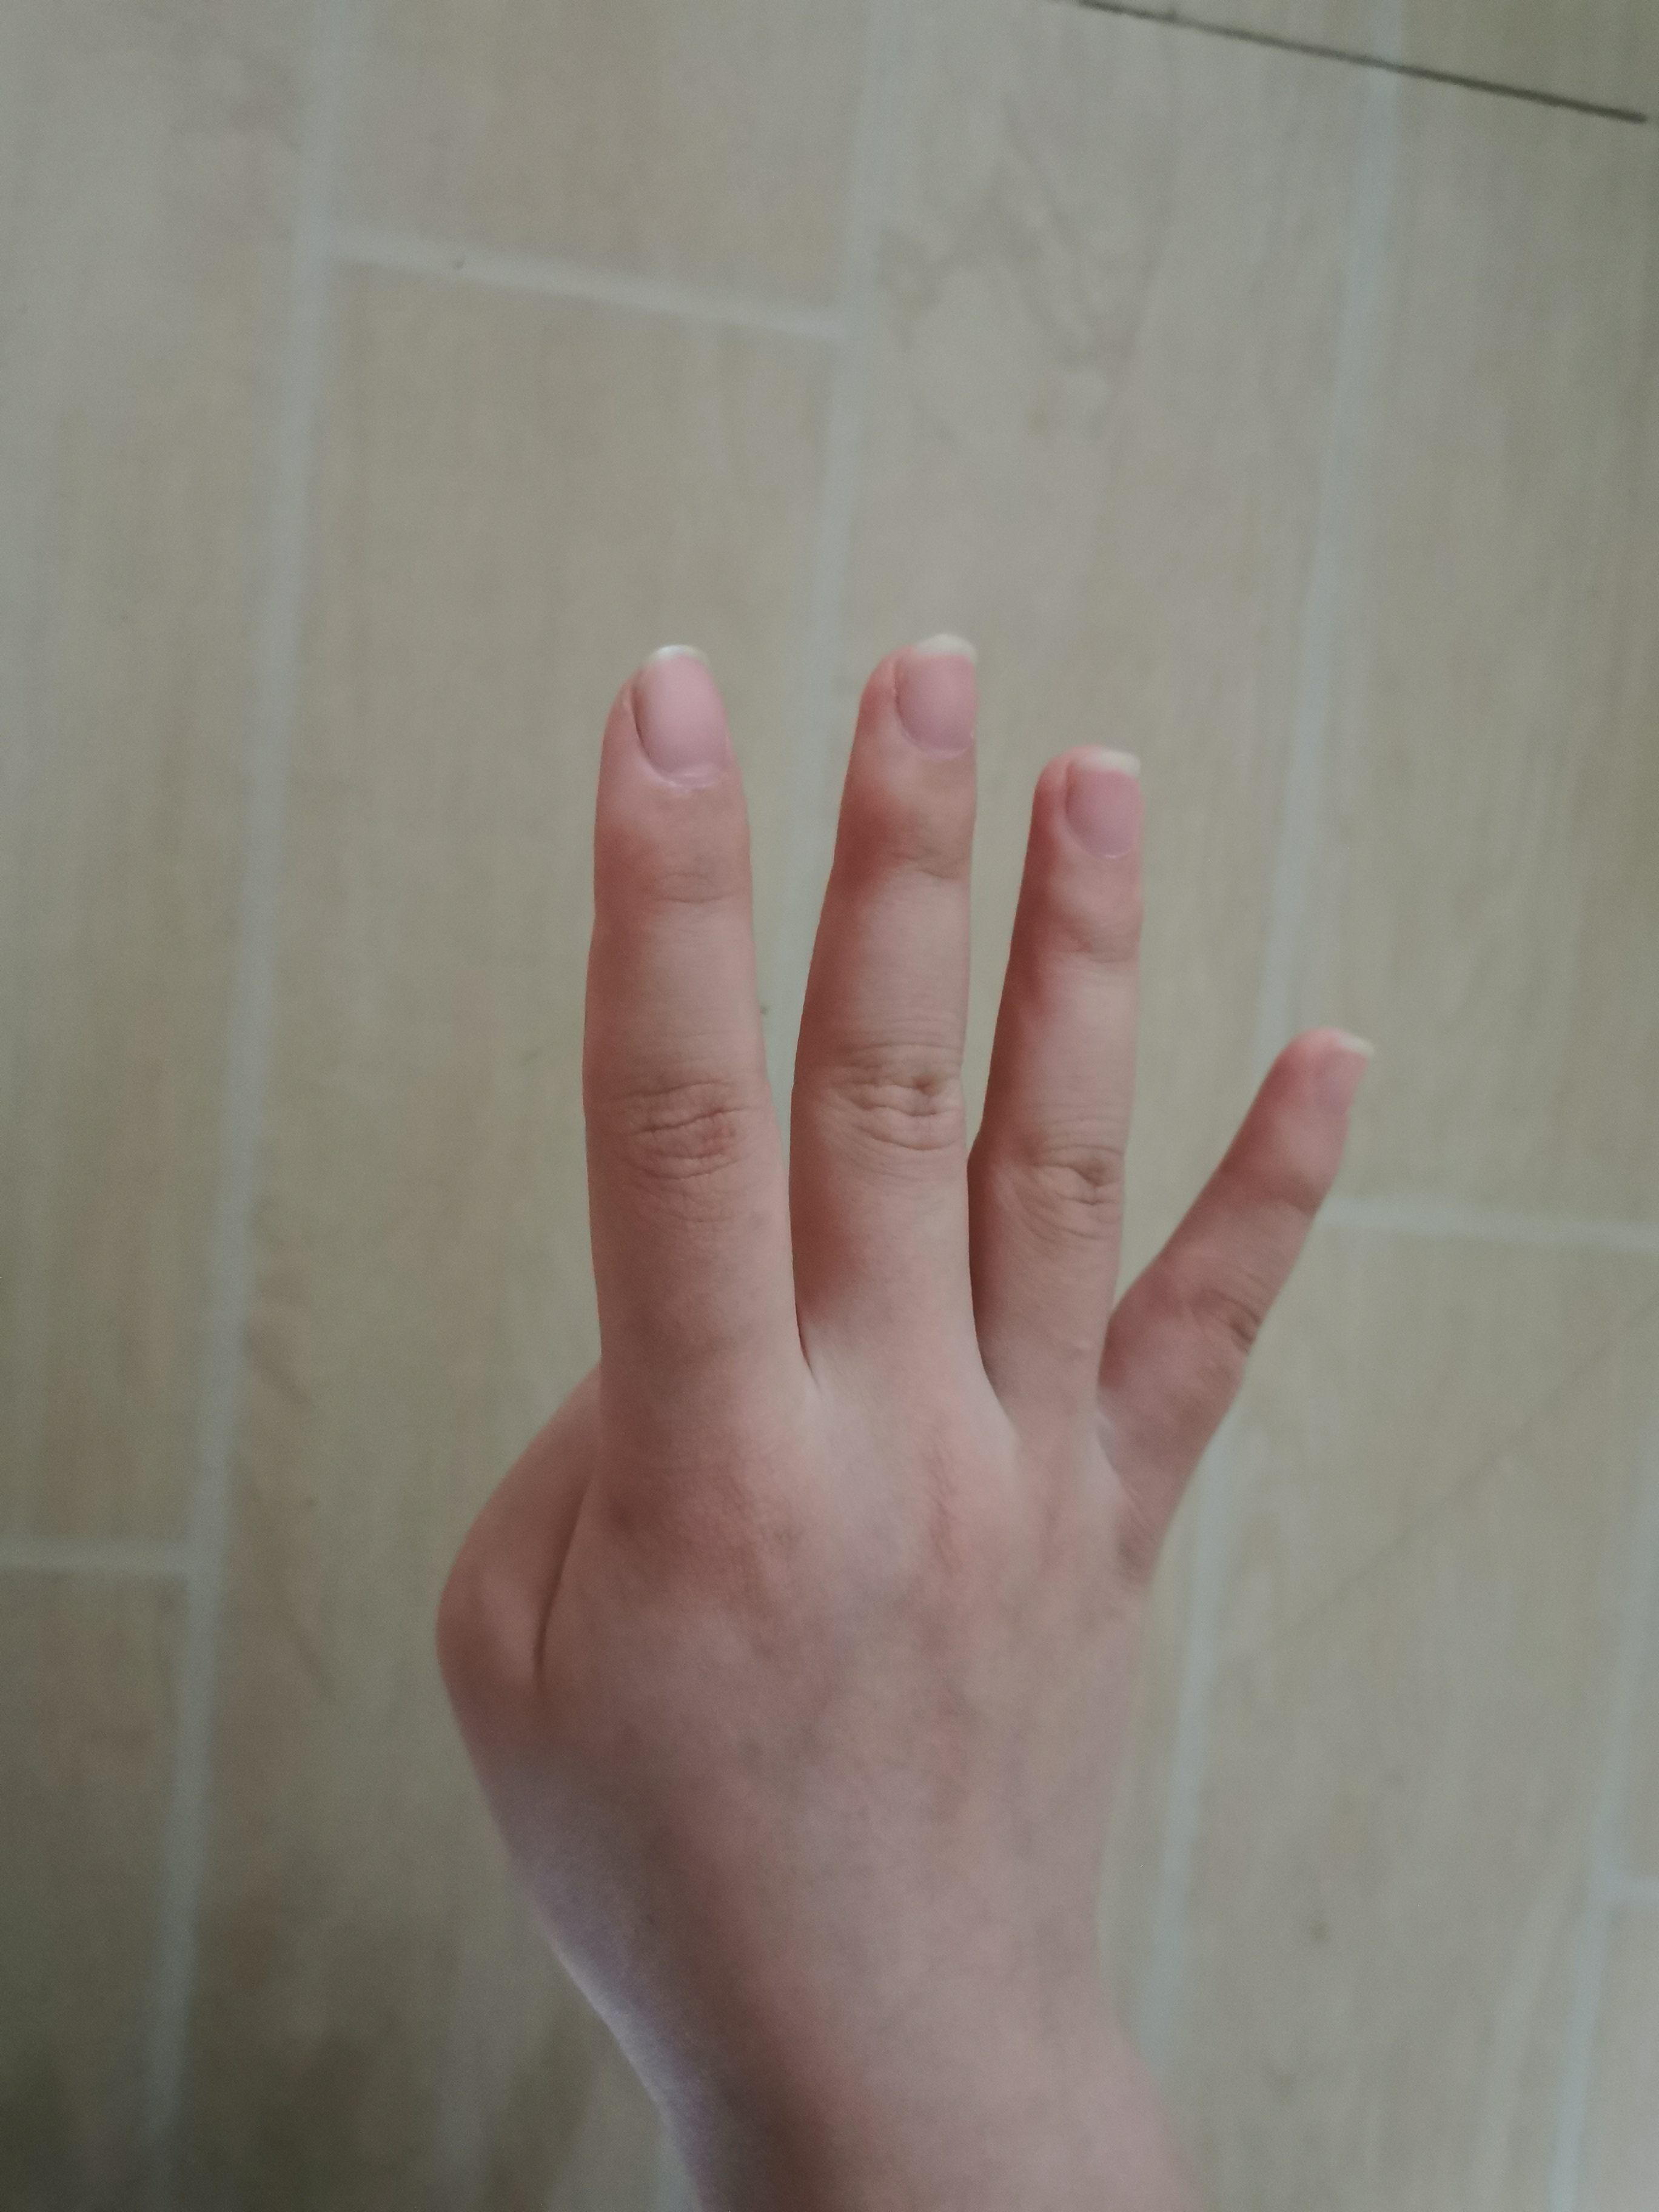right: (425, 611, 1396, 2047)
